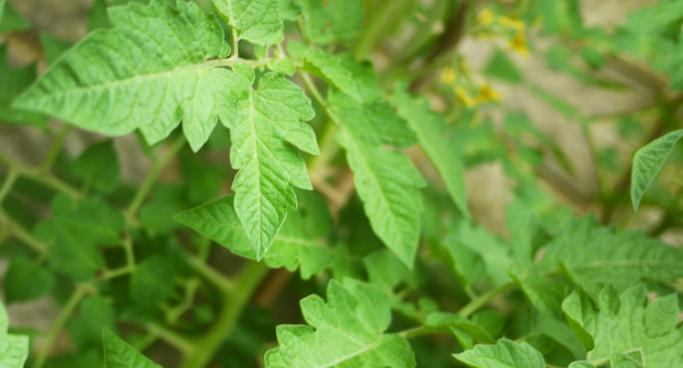Tomato leaf: (145, 43, 374, 283), (12, 0, 266, 204), (267, 72, 486, 278), (526, 178, 683, 344), (254, 236, 448, 368), (347, 84, 510, 230), (385, 283, 617, 368), (114, 0, 327, 67)
